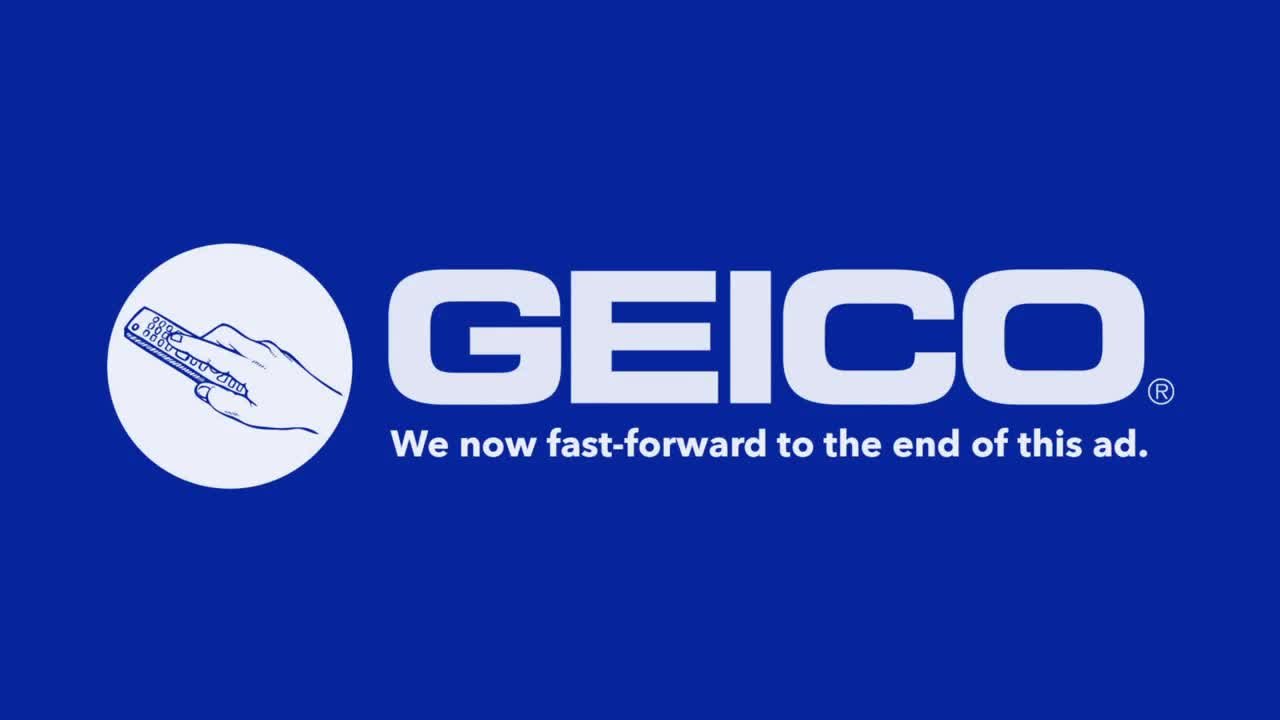geico: (383, 262, 1183, 412)
